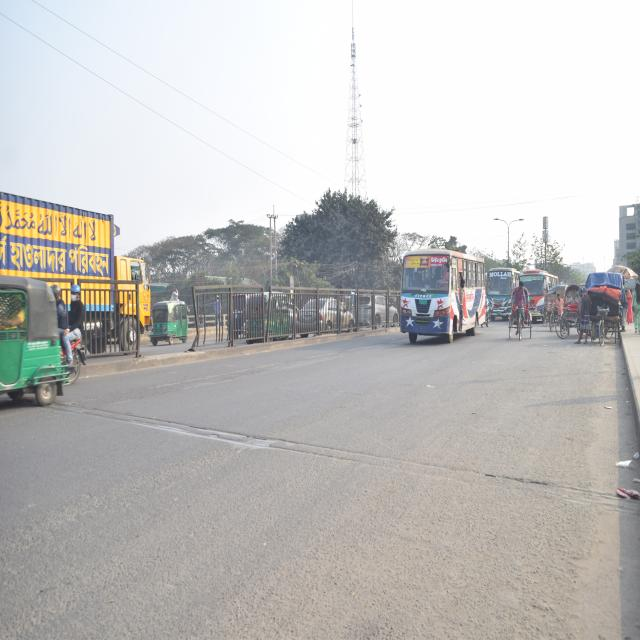bus: (397, 236, 486, 358), (520, 266, 560, 320), (487, 261, 514, 334)
truck: (61, 166, 153, 360)
